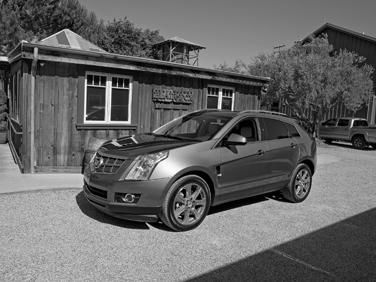car: (78, 106, 321, 238)
